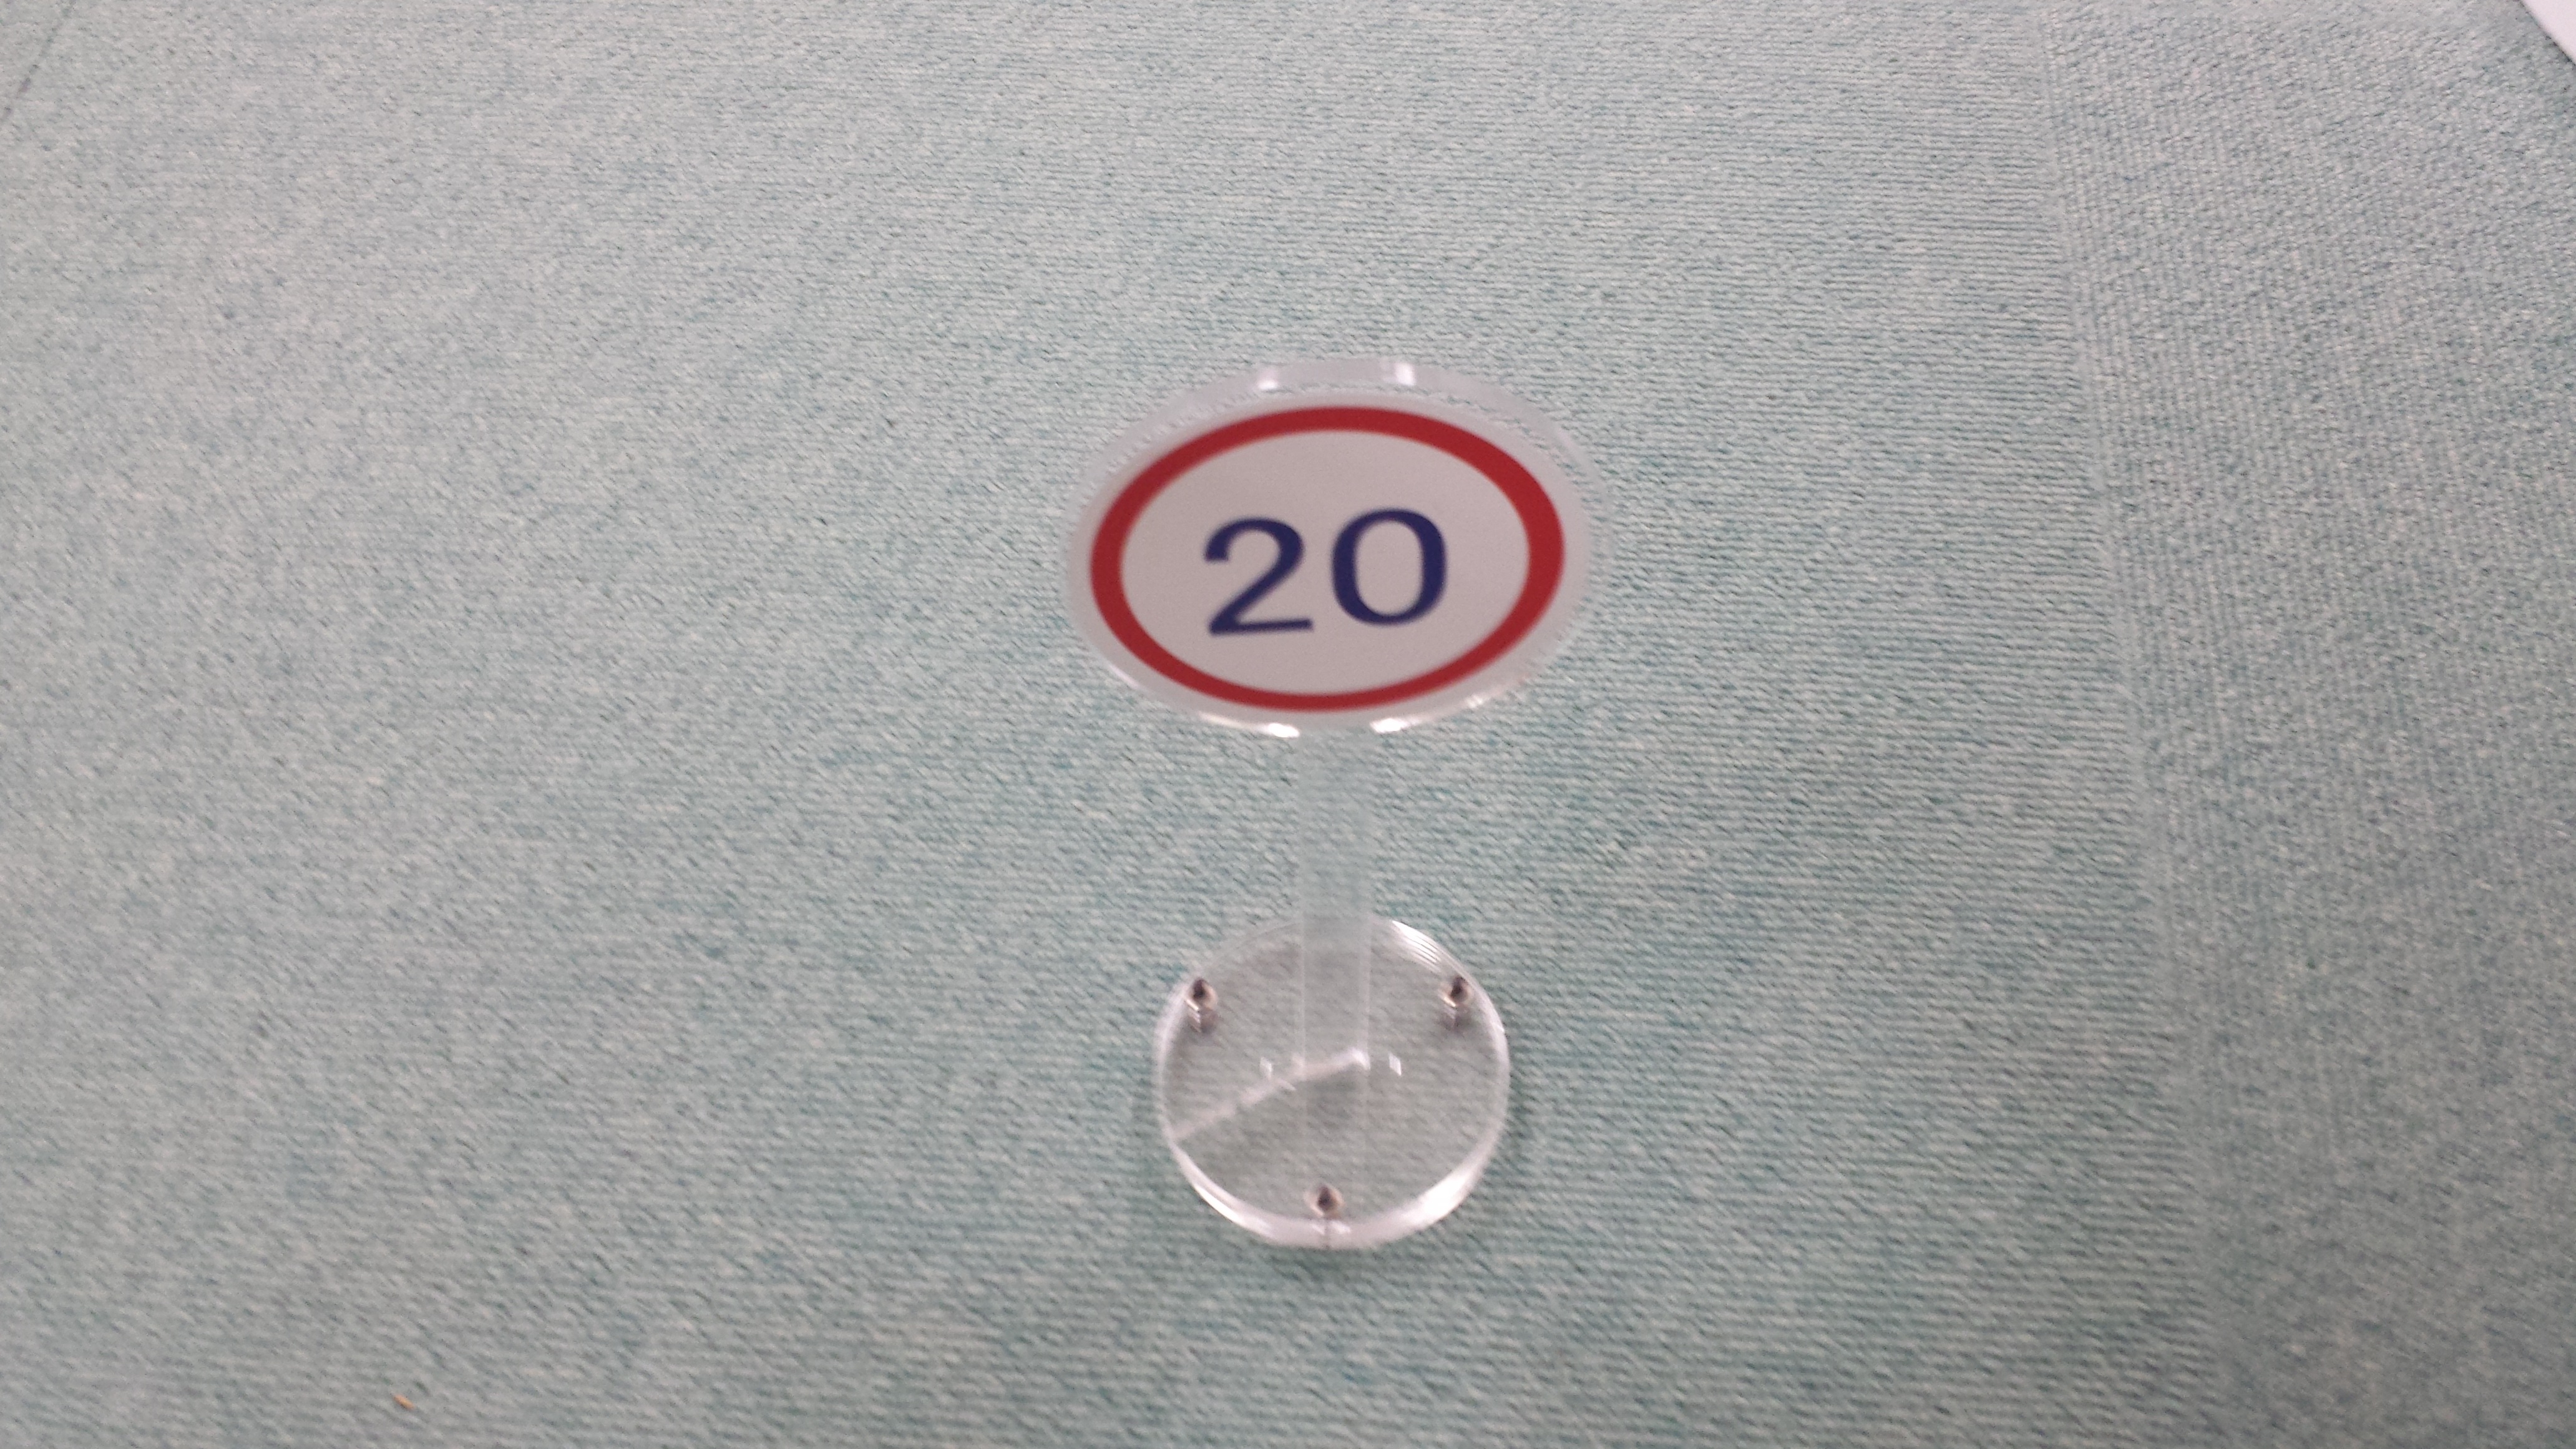speed_20: (1063, 387, 1598, 736)
